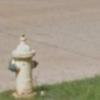a fire hydrant: (9, 35, 38, 96)
